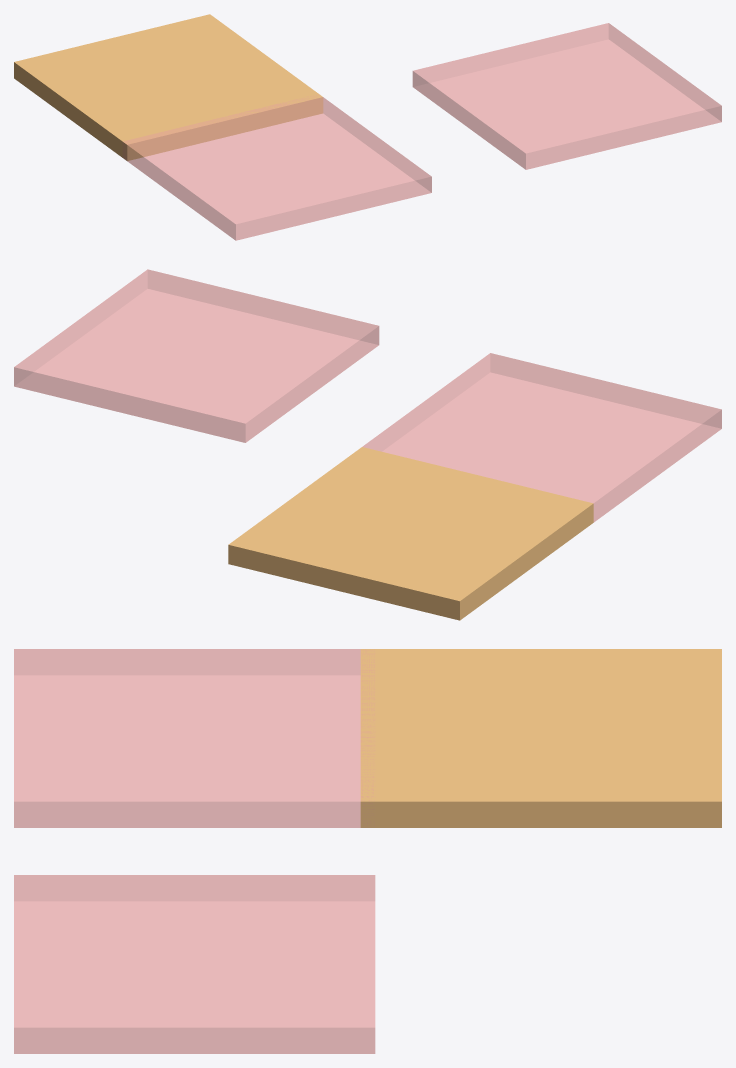
Rendered from treno_step4.glb.
3 views of the same model, one above another, from view 1: azimuth 30°, elevation 25°; view 2: azimuth 150°, elevation 25°; view 3: azimuth 270°, elevation 25° (orthographic). The views are drawn at different scales.
Visible parts, largest first — view 1: quadrato_grande.001, quadrato_piccolo, quadrato_grande; view 2: quadrato_grande.001, quadrato_piccolo, quadrato_grande; view 3: quadrato_grande.001, quadrato_piccolo, quadrato_grande.
Part boxes in pixels (x1,y1,x2,y2): quadrato_grande.001: (412,23,721,169); quadrato_piccolo: (14,14,323,160); quadrato_grande: (122,94,431,240); quadrato_grande.001: (14,269,379,442); quadrato_piccolo: (228,447,593,620); quadrato_grande: (362,353,721,522); quadrato_grande.001: (14,875,375,1053); quadrato_piccolo: (360,649,721,827); quadrato_grande: (14,649,375,827).
Size of the model in its own units: 2.48 by 0.08 by 1.96.
